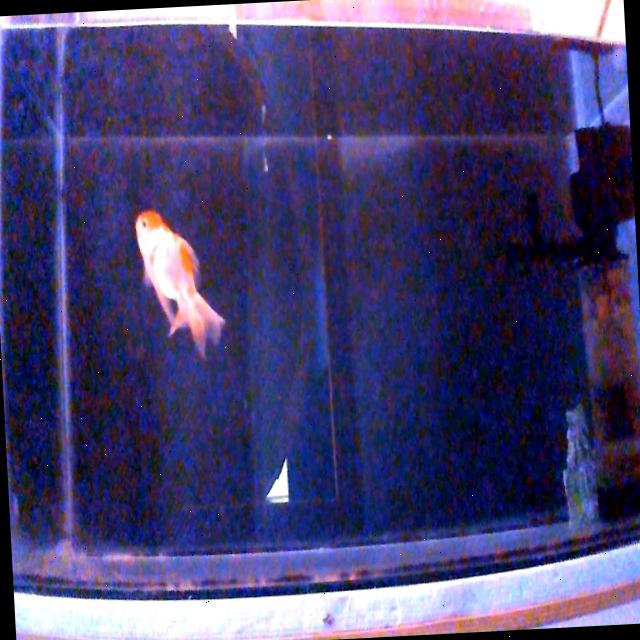fish: (135, 207, 229, 366)
